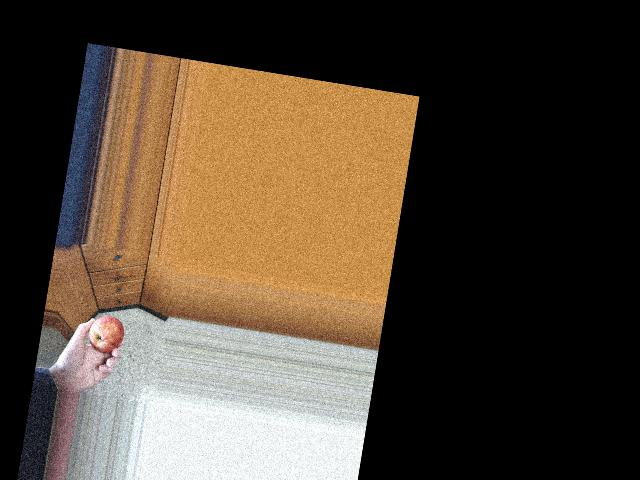apple: (78, 311, 127, 365)
